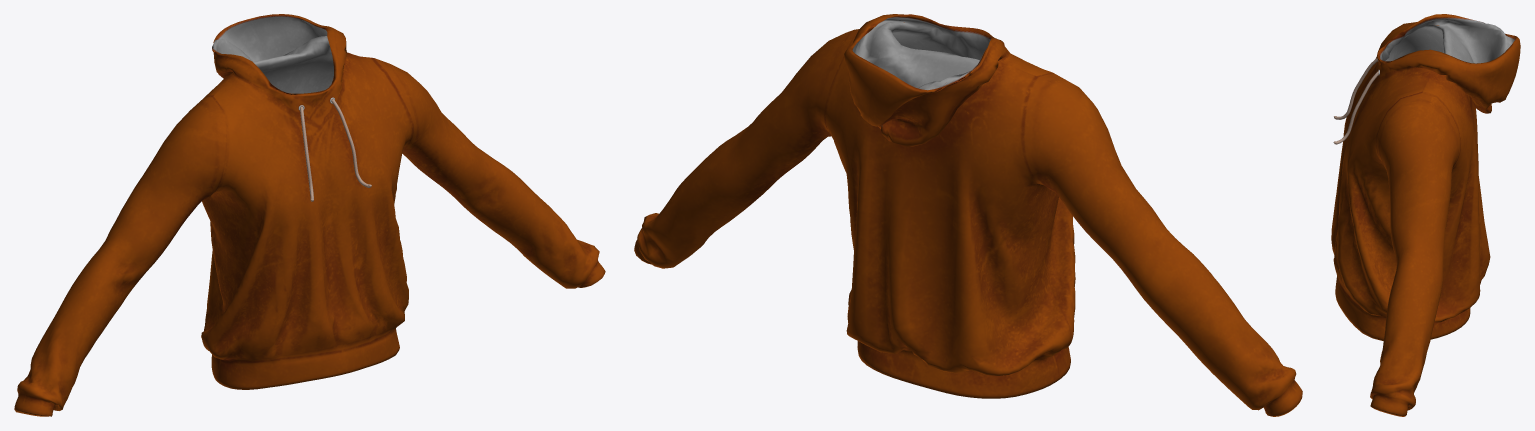
The model's file is hoodie.glb.
3 views of the same model, side by side, from view 1: azimuth 30°, elevation 25°; view 2: azimuth 150°, elevation 25°; view 3: azimuth 270°, elevation 25° (orthographic). The views are drawn at different scales.
Visible parts, largest first — view 1: Hoodie; view 2: Hoodie; view 3: Hoodie.
Boxes of the visible parts, x1=… form: Hoodie: x1=14, y1=14, x2=605, y2=416; Hoodie: x1=634, y1=14, x2=1302, y2=416; Hoodie: x1=1331, y1=14, x2=1520, y2=416.
Size of the model in its own units: 11.8 by 5.91 by 3.65.
1 material, 1 textured.
